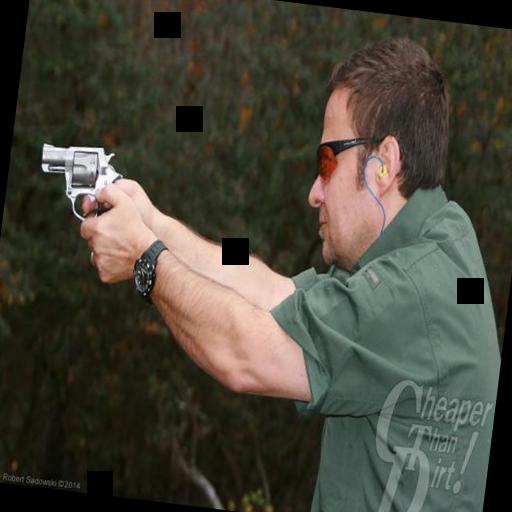Handgun: (28, 127, 128, 245)
